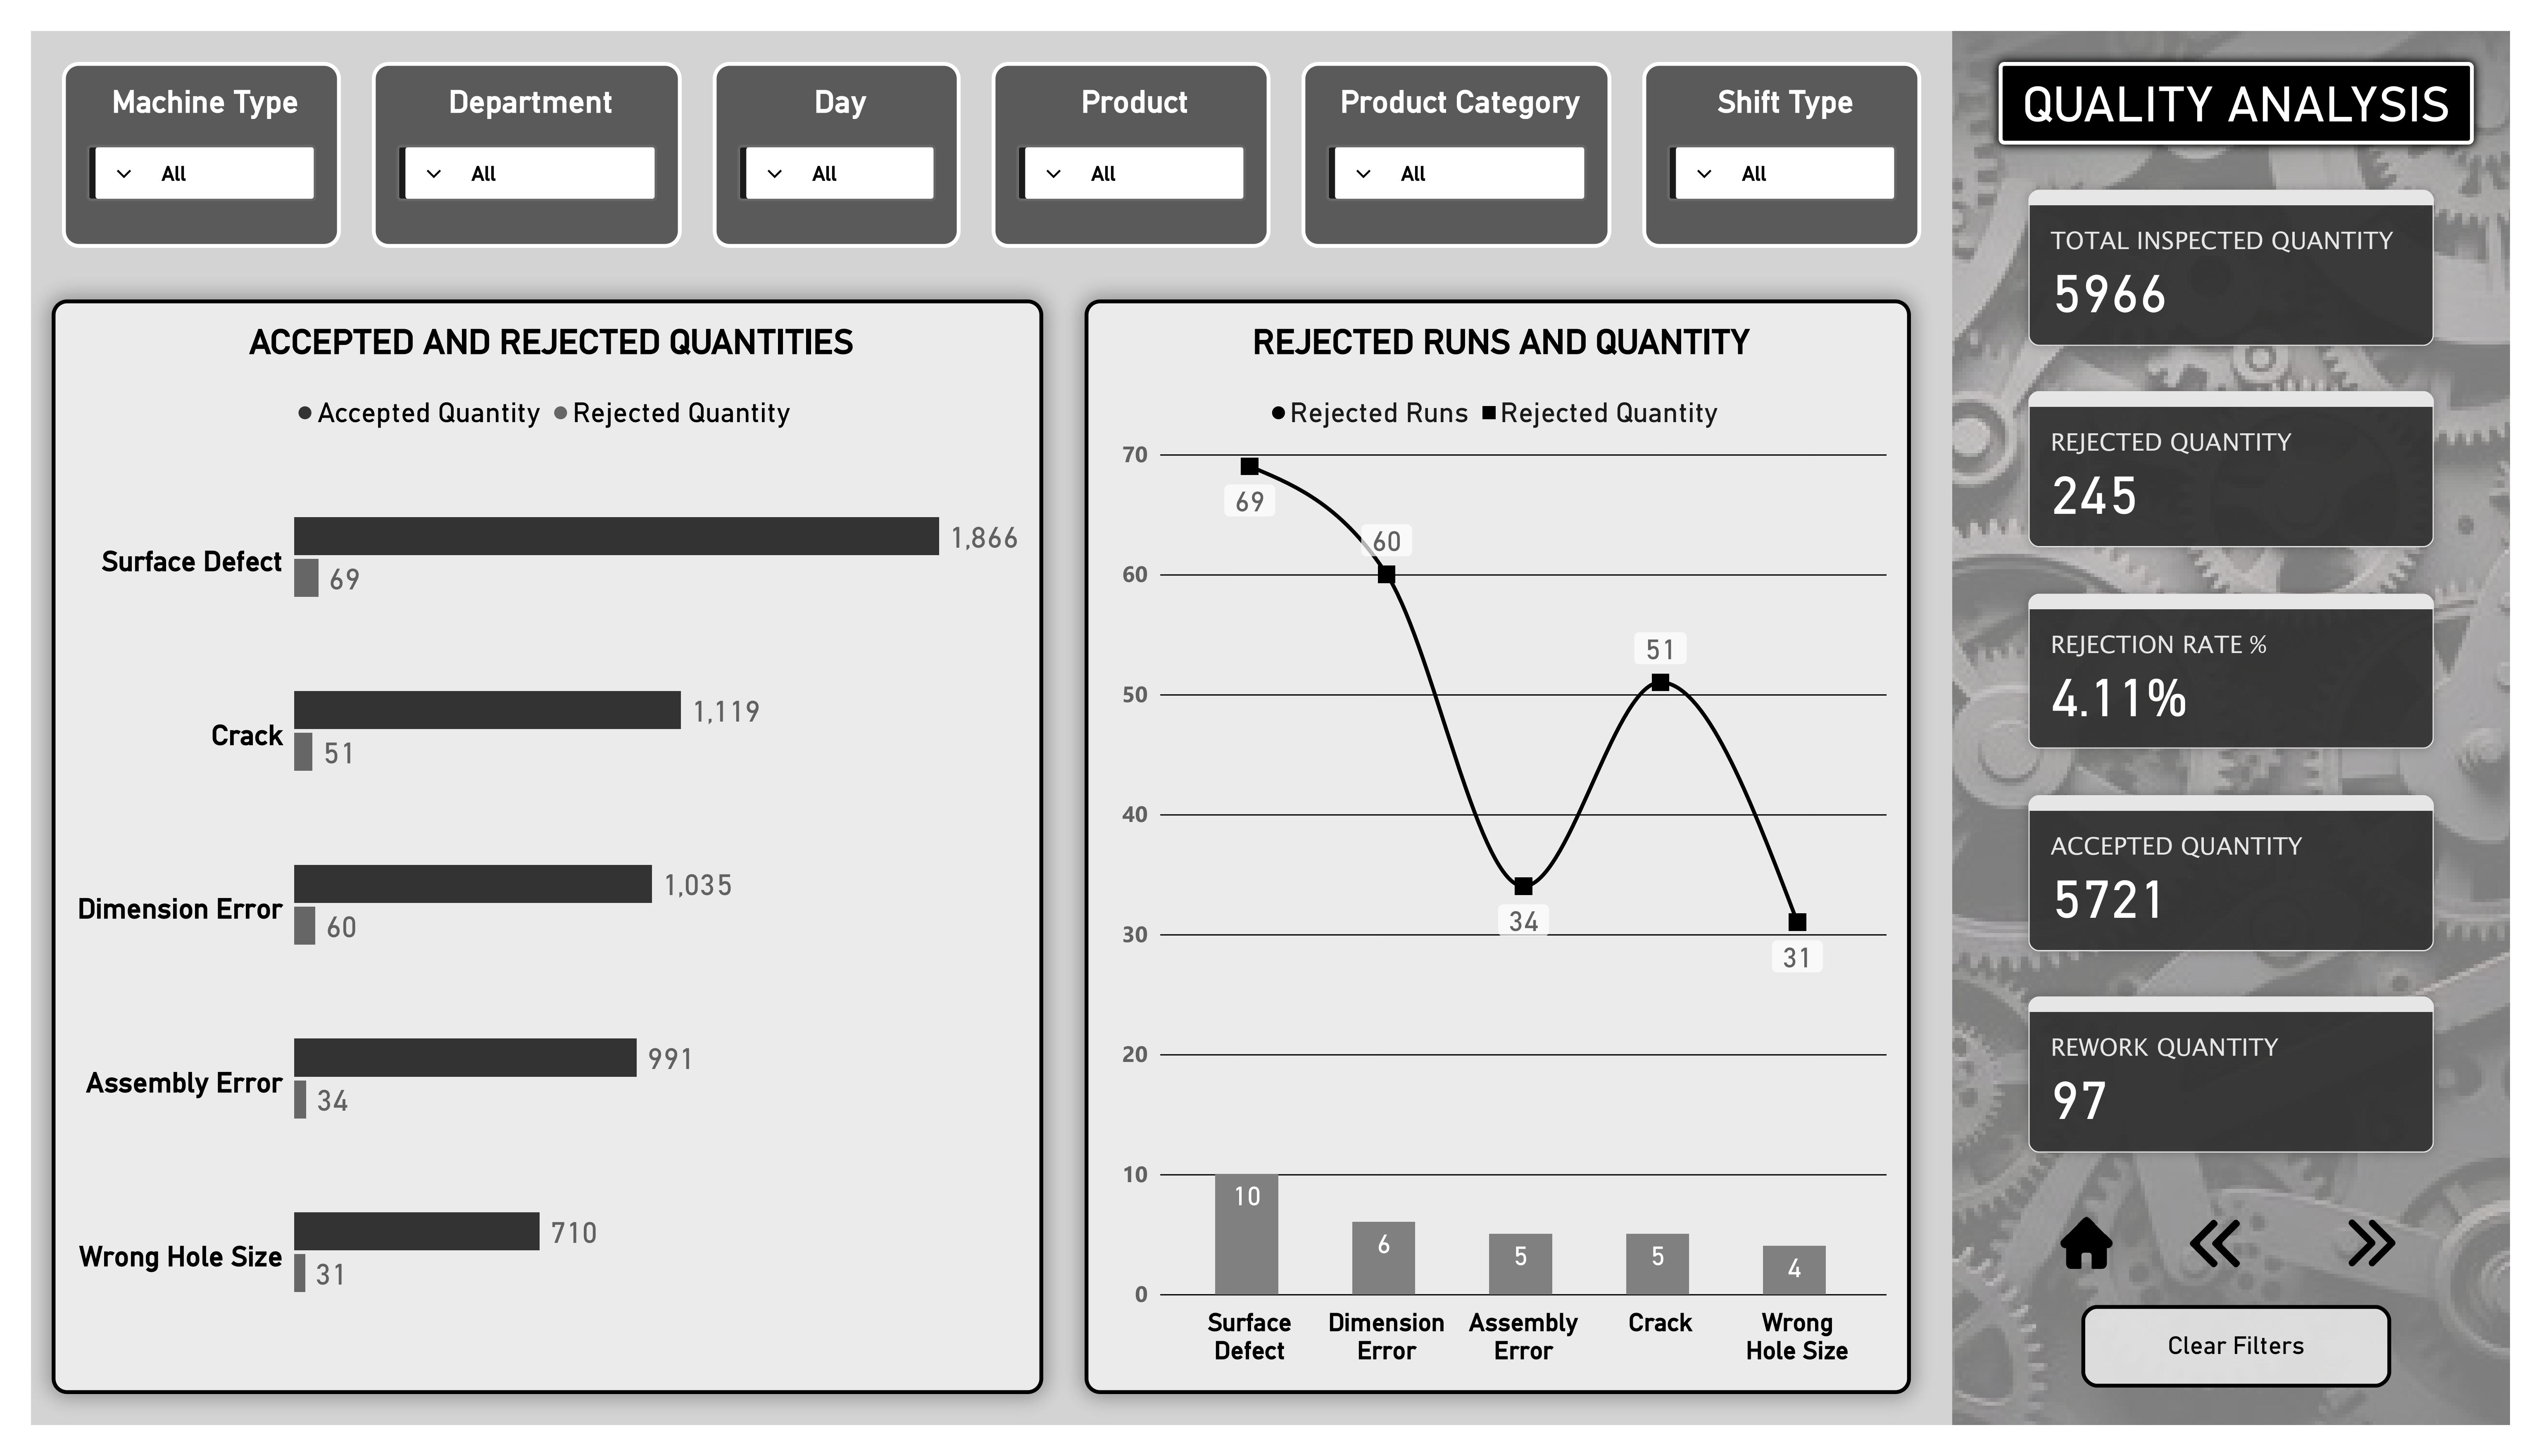

The dashboard page shown, as its layout file describes it:
{"tool":"powerbi","page":{"name":"Quality Analysis","canvas":[1920,1080],"ordinal":2},"visuals":[{"type":"image","box":[1488,0,432,1080],"z":0,"group":"g1"},{"type":"lineClusteredColumnComboChart","title":"REJECTED RUNS AND QUANTITY","fields":{"Category":["FactQuality.DefectType"],"Y":["CountNonNull(FactQuality.RejectedQty)"],"Y2":["Sum(FactQuality.RejectedQty)"]},"box":[816,208,640,848],"z":0},{"type":"clusteredBarChart","title":"ACCEPTED AND REJECTED  QUANTITIES","fields":{"Category":["FactQuality.DefectType"],"Y":["2 Quality Analysis.ACCEPTED QUANTITY","2 Quality Analysis.REJECTED QUANTITY"]},"box":[16,208,768,848],"z":1000},{"type":"image","box":[1571.5,907,40,64],"z":1000,"group":"g3"},{"type":"group","id":"g1","title":"Group 1","box":[1488,0,432,1080],"z":2000},{"type":"group","id":"g2","title":"Group 2","box":[24,24,1440,144],"z":3000},{"type":"image","box":[1781.4,907,62.1,64],"z":3000,"group":"g4"},{"type":"group","id":"g3","title":"Group 2","box":[1571.5,907,272,48],"z":4000},{"type":"image","box":[1667.5,915,46.6,48],"z":4000,"group":"g4"},{"type":"actionButton","box":[1587.5,987,240,64],"z":5000},{"type":"shape","box":[1516,16,384,80],"z":6000},{"type":"cardVisual","fields":{"Data":["Quality Analysis.TOTAL INSPECTED QUANTITY"]},"box":[1536,112,336,142.9],"z":6000,"group":"g5"},{"type":"listSlicer","fields":{"Values":["DimDepartment.DepartmentName"]},"box":[264,24,240,144],"z":7000,"group":"g2"},{"type":"cardVisual","fields":{"Data":["Quality Analysis.REJECTED QUANTITY"]},"box":[1536,268.3,336,142.9],"z":7000,"group":"g5"},{"type":"cardVisual","fields":{"Data":["Quality Analysis.REWORK QUANTITY"]},"box":[1536,737.1,336,142.9],"z":8000,"group":"g5"},{"type":"cardVisual","fields":{"Data":["Quality Analysis.REJECTION RATE %"]},"box":[1536,424.6,336,142.9],"z":9000,"group":"g5"},{"type":"cardVisual","fields":{"Data":["Quality Analysis.ACCEPTED QUANTITY"]},"box":[1536,580.8,336,142.9],"z":10000,"group":"g5"},{"type":"listSlicer","fields":{"Values":["DimMachine.MachineName"]},"box":[24,24,216,144],"z":22000,"group":"g2"},{"type":"group","id":"g4","title":"Group 1","box":[1667.5,907,176,64],"z":23001,"group":"g3"},{"type":"listSlicer","fields":{"Values":["DimProduct.ProductCategory"]},"box":[984,24,240,144],"z":23500,"group":"g2"},{"type":"listSlicer","fields":{"Values":["DimDate.Date.Variation.Date Hierarchy.Day"]},"box":[528,24,192,144],"z":24000,"group":"g2"},{"type":"listSlicer","fields":{"Values":["DimShift.ShiftName"]},"box":[1248,24,216,144],"z":25000,"group":"g2"},{"type":"listSlicer","fields":{"Values":["DimProduct.ProductName"]},"box":[744,24,216,144],"z":25500,"group":"g2"},{"type":"group","id":"g5","title":"Group 3","box":[1536,112,336,768],"z":25502,"group":"g1"}]}

Visuals, with their boxes on the page's 1920x1080 design canvas (x1, y1, x2, y2). These are canvas units, not pixel positions in the 2541x1456 screenshot, which may show the page scaled, cropped or inside an application window:
image: <bbox>1488, 0, 1920, 1080</bbox>
"REJECTED RUNS AND QUANTITY" lineClusteredColumnComboChart: <bbox>816, 208, 1456, 1056</bbox>
"ACCEPTED AND REJECTED  QUANTITIES" clusteredBarChart: <bbox>16, 208, 784, 1056</bbox>
image: <bbox>1572, 907, 1612, 971</bbox>
"Group 1" group: <bbox>1488, 0, 1920, 1080</bbox>
"Group 2" group: <bbox>24, 24, 1464, 168</bbox>
image: <bbox>1781, 907, 1844, 971</bbox>
"Group 2" group: <bbox>1572, 907, 1844, 955</bbox>
image: <bbox>1668, 915, 1714, 963</bbox>
actionButton: <bbox>1588, 987, 1828, 1051</bbox>
shape: <bbox>1516, 16, 1900, 96</bbox>
cardVisual - Quality Analysis.TOTAL INSPECTED QUANTITY: <bbox>1536, 112, 1872, 255</bbox>
listSlicer - DimDepartment.DepartmentName: <bbox>264, 24, 504, 168</bbox>
cardVisual - Quality Analysis.REJECTED QUANTITY: <bbox>1536, 268, 1872, 411</bbox>
cardVisual - Quality Analysis.REWORK QUANTITY: <bbox>1536, 737, 1872, 880</bbox>
cardVisual - Quality Analysis.REJECTION RATE %: <bbox>1536, 425, 1872, 568</bbox>
cardVisual - Quality Analysis.ACCEPTED QUANTITY: <bbox>1536, 581, 1872, 724</bbox>
listSlicer - DimMachine.MachineName: <bbox>24, 24, 240, 168</bbox>
"Group 1" group: <bbox>1668, 907, 1844, 971</bbox>
listSlicer - DimProduct.ProductCategory: <bbox>984, 24, 1224, 168</bbox>
listSlicer - DimDate.Date.Variation.Date Hierarchy.Day: <bbox>528, 24, 720, 168</bbox>
listSlicer - DimShift.ShiftName: <bbox>1248, 24, 1464, 168</bbox>
listSlicer - DimProduct.ProductName: <bbox>744, 24, 960, 168</bbox>
"Group 3" group: <bbox>1536, 112, 1872, 880</bbox>
